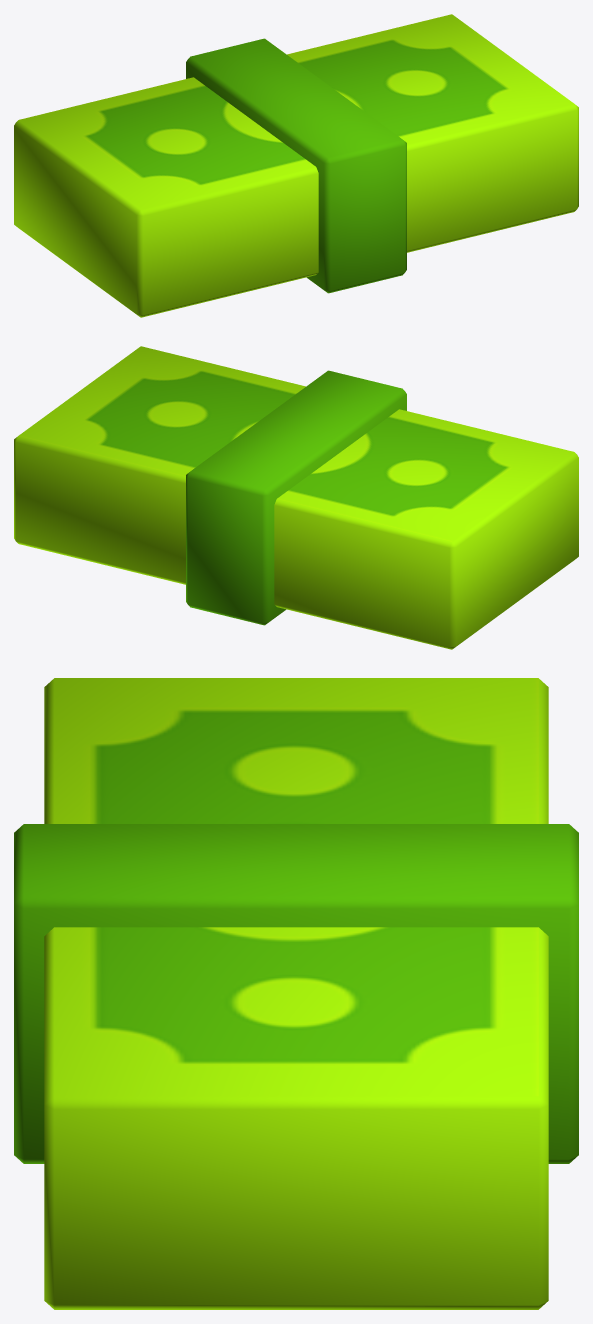
The model's file is Money.glb.
3 renders of one model, top to bottom at view 1: azimuth 30°, elevation 25°; view 2: azimuth 150°, elevation 25°; view 3: azimuth 270°, elevation 25°, orthographic. The views are drawn at different scales.
Parts seen in each view (by area): view 1: Collectable_Money_01; view 2: Collectable_Money_01; view 3: Collectable_Money_01.
Part boxes in pixels (x1,y1,x2,y2): Collectable_Money_01: (14, 14, 578, 317); Collectable_Money_01: (14, 346, 578, 649); Collectable_Money_01: (14, 678, 578, 1309).
Size of the model in its own units: 0.7573 by 0.2224 by 0.4239.
1 material, 1 textured.
